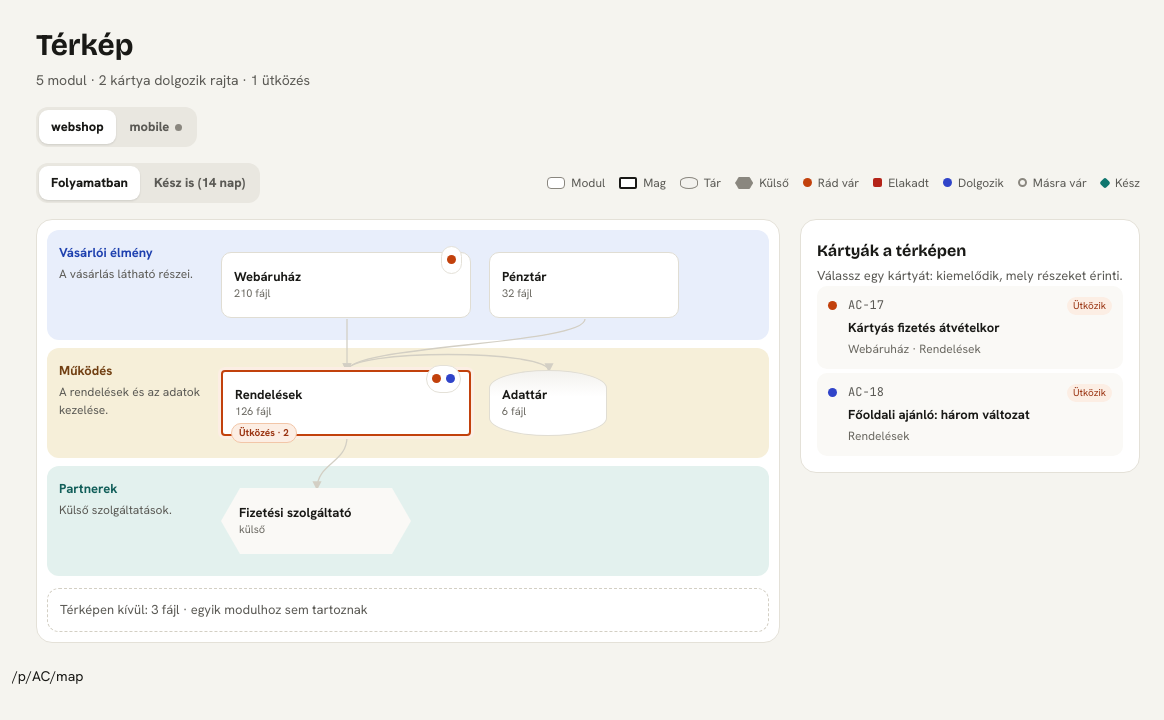
structure map › toggles completed cards and clears a hidden card selection
Expected: the heading "Vásárlói élmény" is shown, [59,244,153,261]
Click the button "Kész is (14 nap)". click: (200, 183)
box: [142,166,257,200]
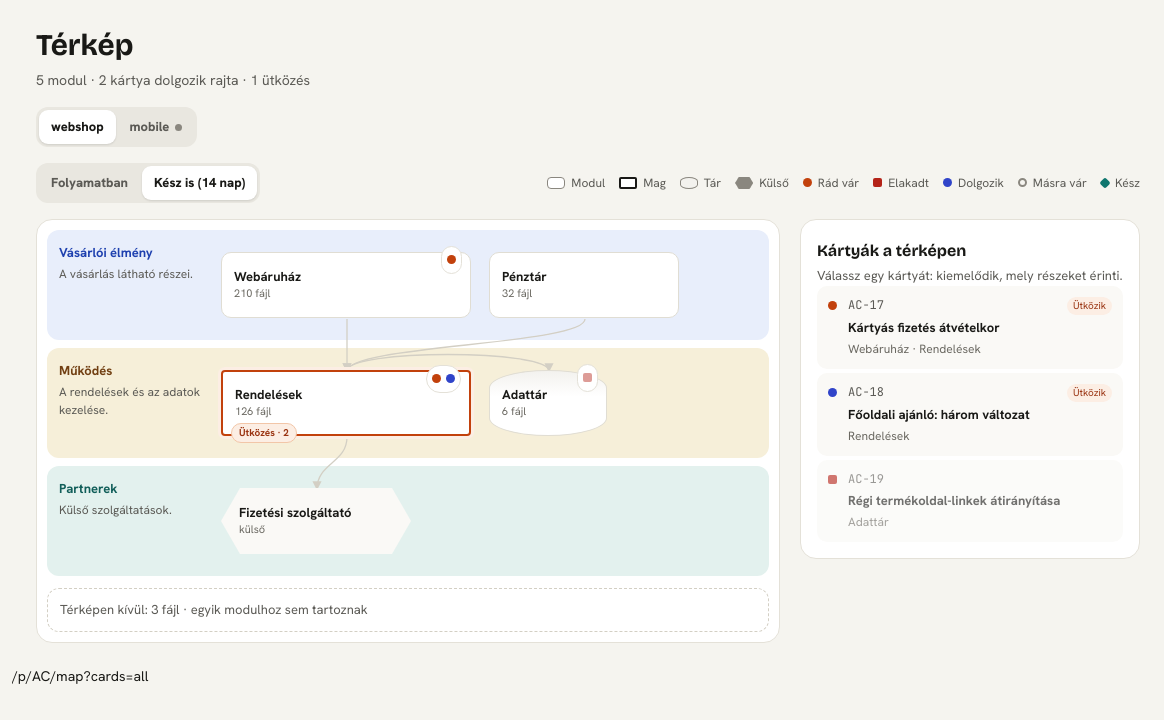
Click the button "AC-19 Régi termékoldal-linkek átirányítása Adattár". click: (970, 501)
box: [817,460,1123,542]
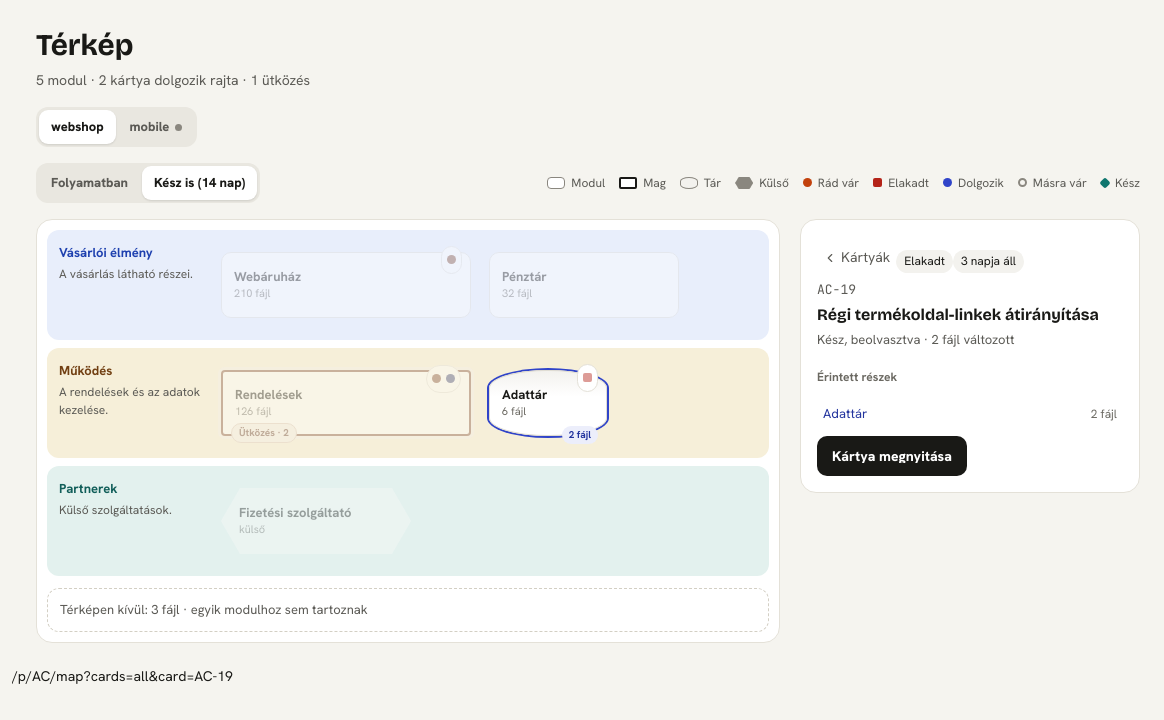
Click the button "Folyamatban". click: (90, 183)
box: [39,166,140,200]
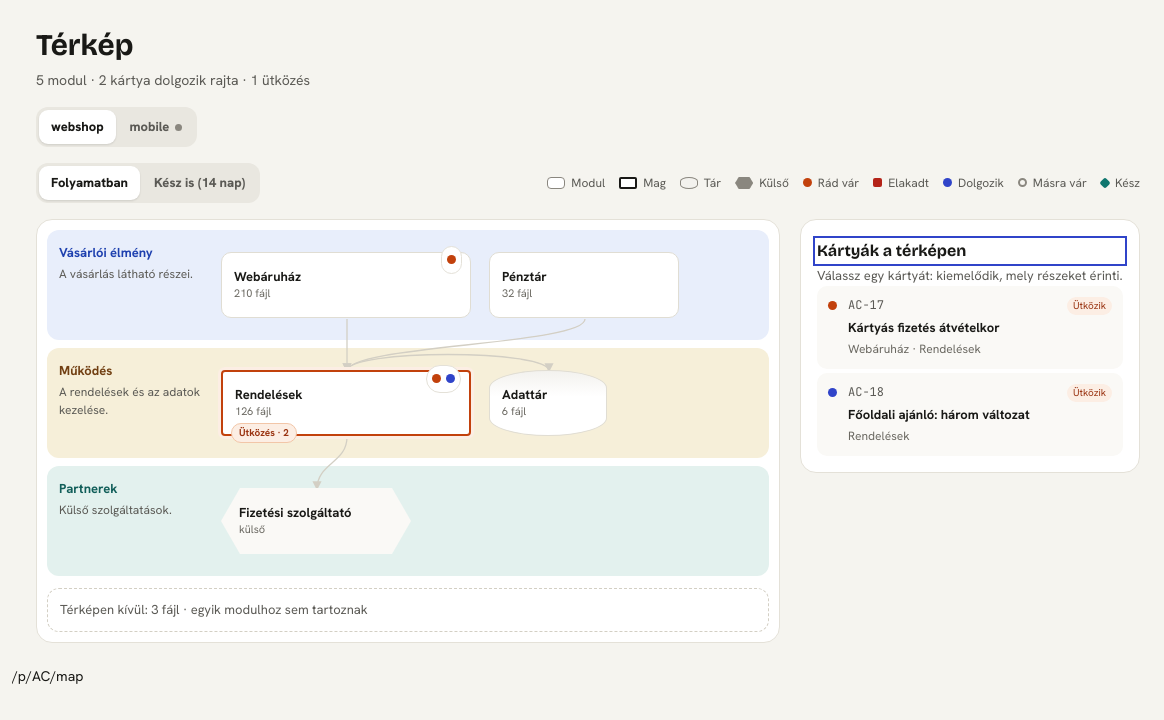
Expected: the text with test id "location" no longer shows "card="
